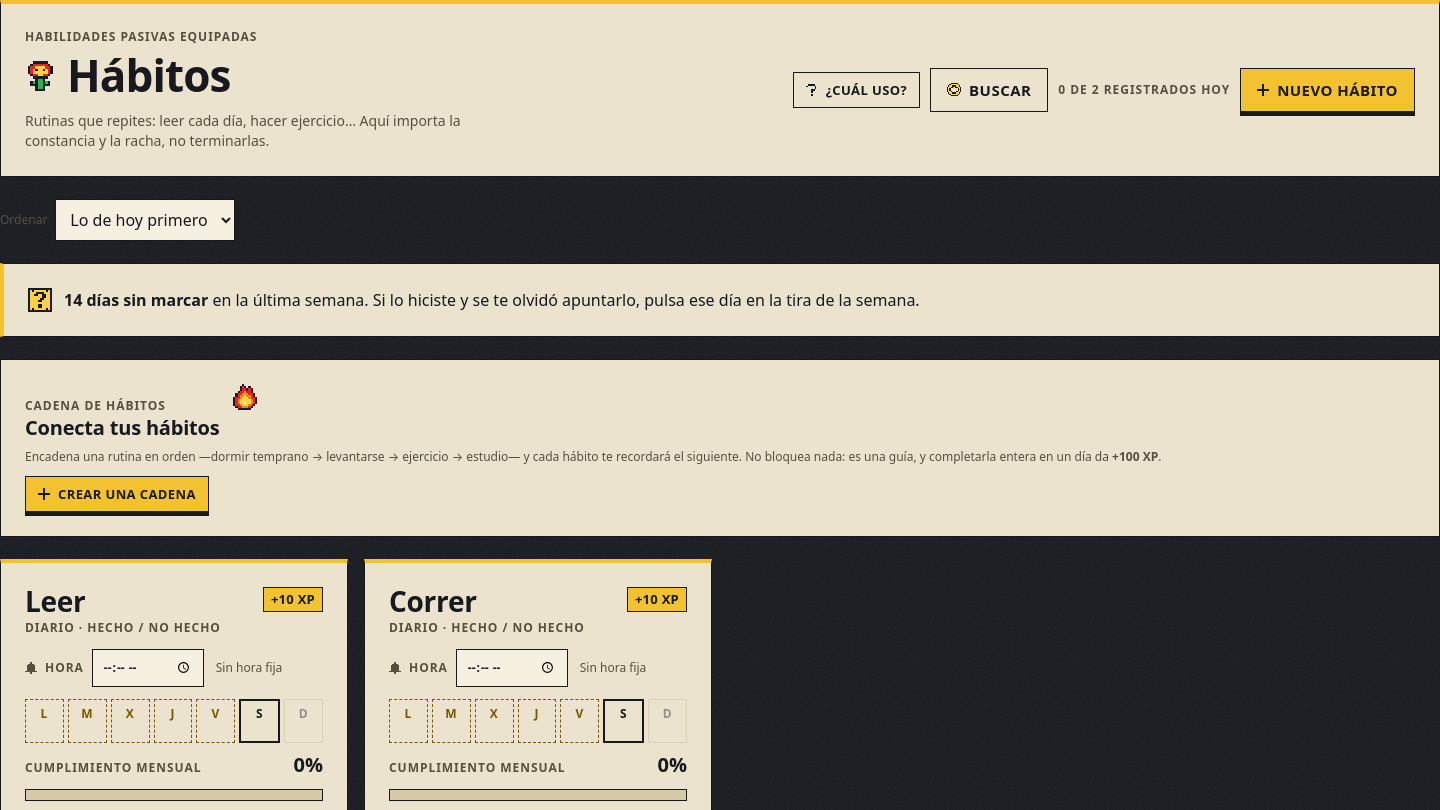
it: Hábitos › el buscador filtra, avisa si nada coincide y al ocultarlo vuelve todo
Click the button "Buscar": (989, 90) [930, 68, 1048, 112]
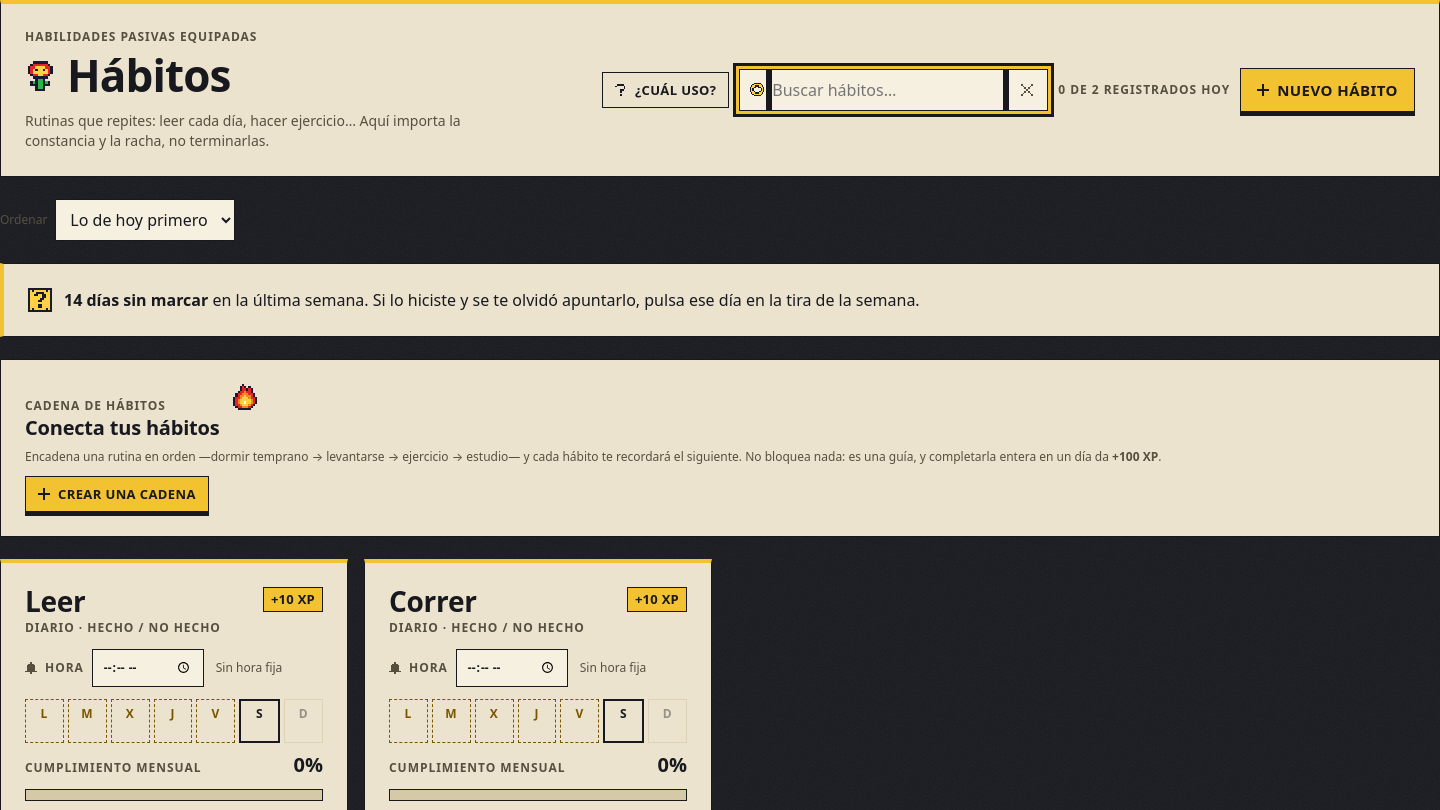
In the search field: (888, 90) [772, 70, 1003, 110], type "corr"
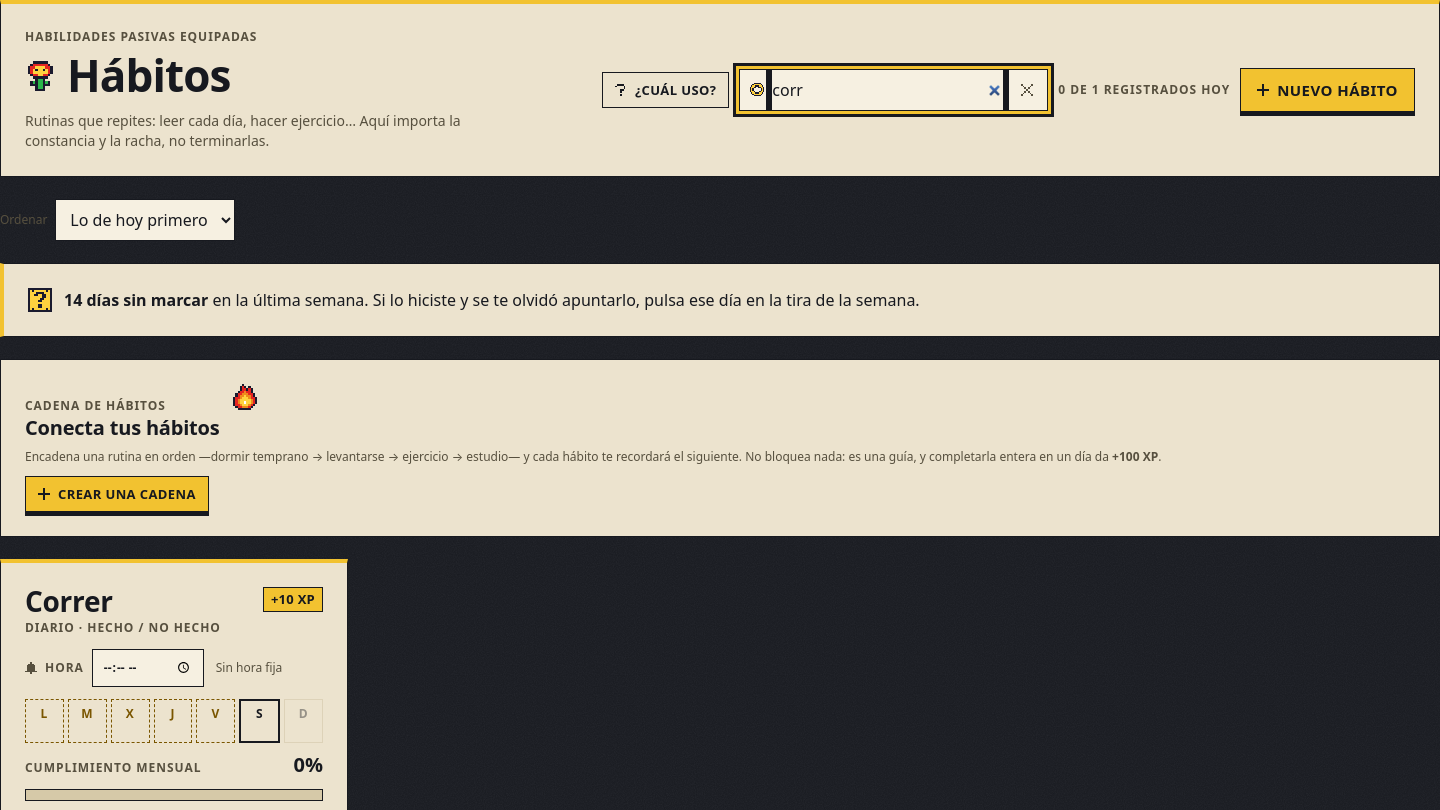
Check: the link "Correr" is shown, box [25, 582, 113, 620]
Replace the text in the search field with "zzz": (888, 90) [772, 70, 1003, 110]
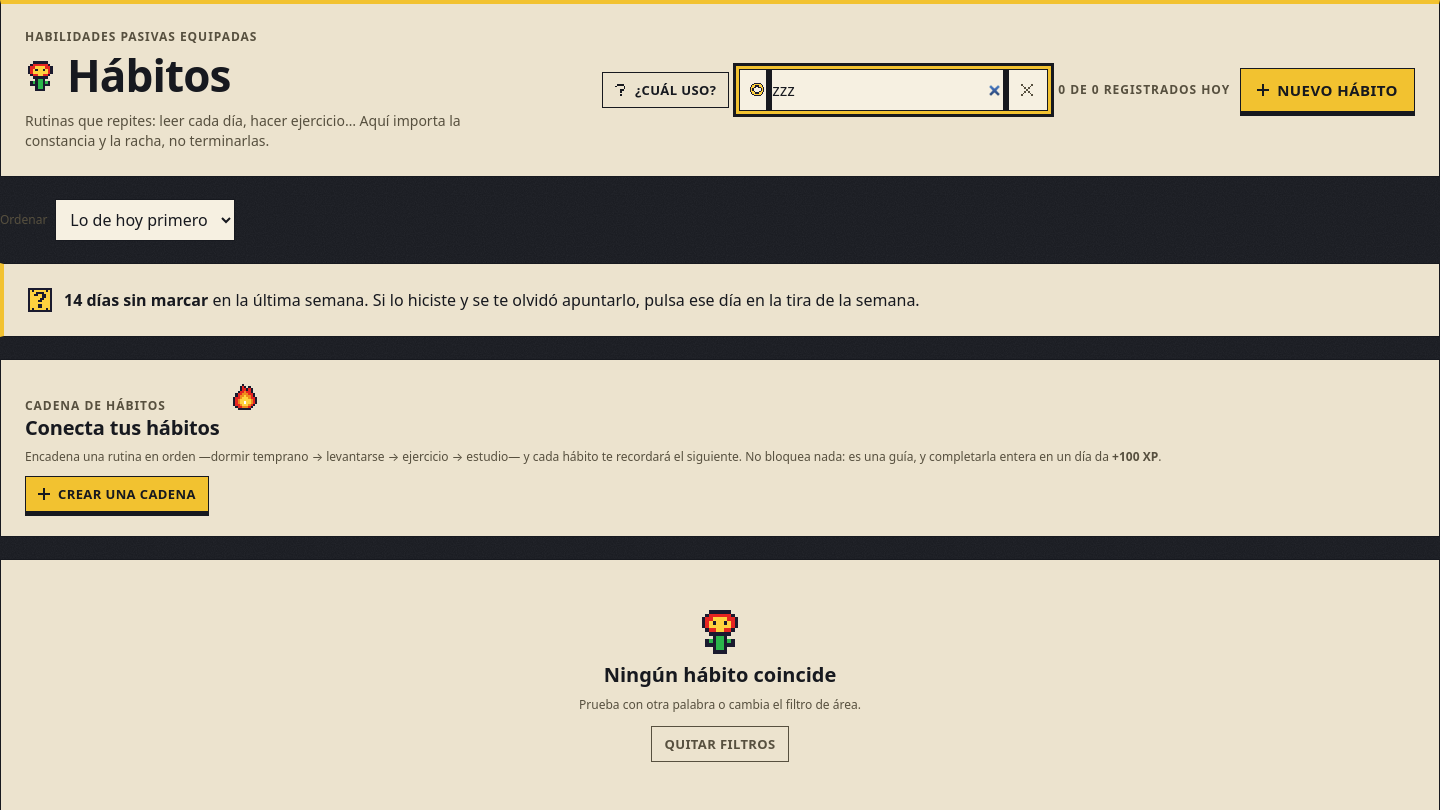
Check: the text "Ningún hábito coincide" is shown, box [604, 664, 836, 686]
Click the button named "Ocultar buscador de hábitos": (1027, 90) [1011, 74, 1043, 106]
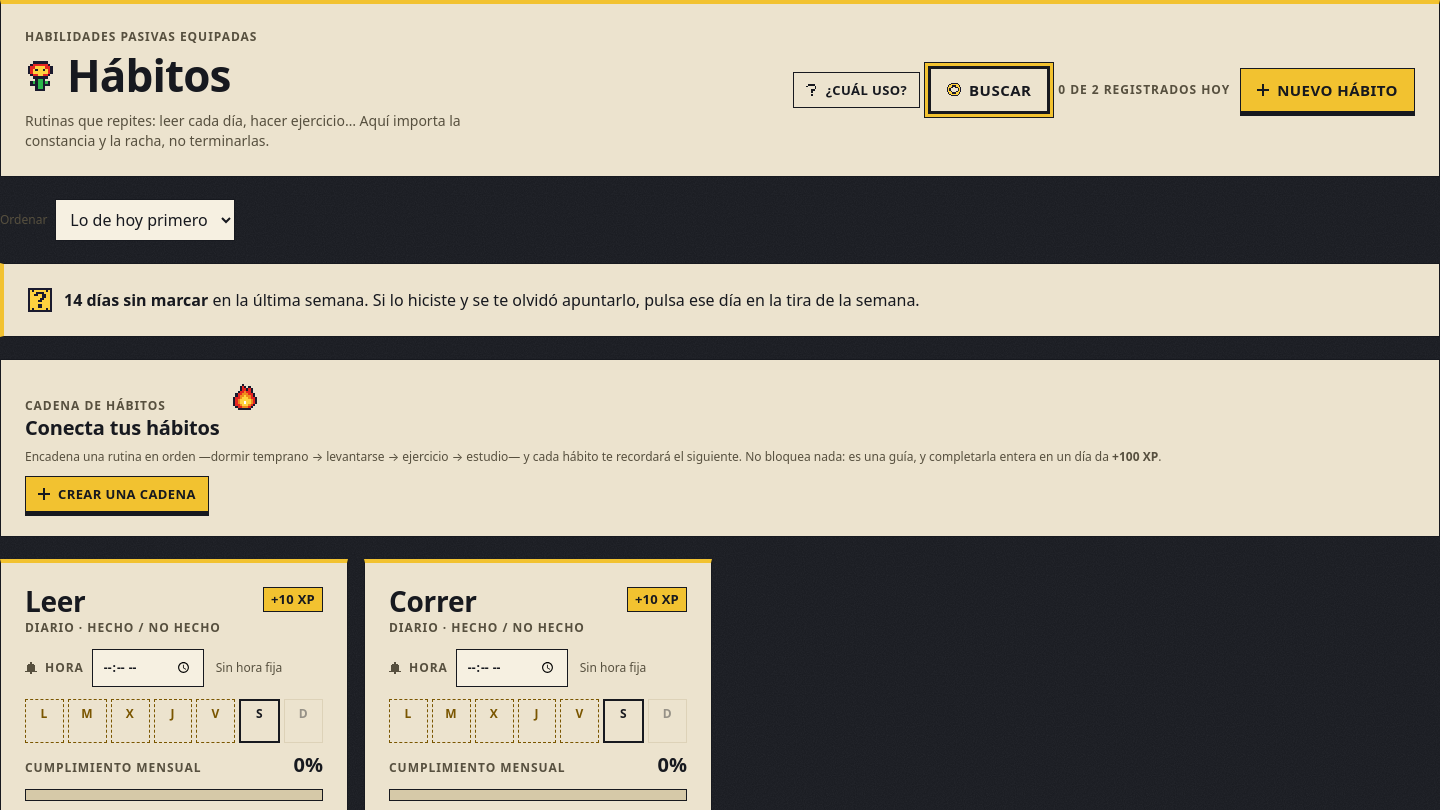
Check: the link "Leer" is shown, box [25, 582, 86, 620]
Check: the link "Correr" is shown, box [389, 582, 477, 620]
